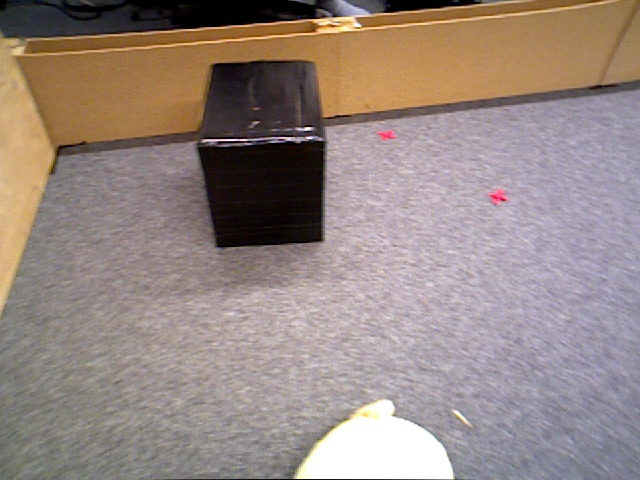grasp: (294, 416, 453, 480)
push: (196, 62, 327, 247)
